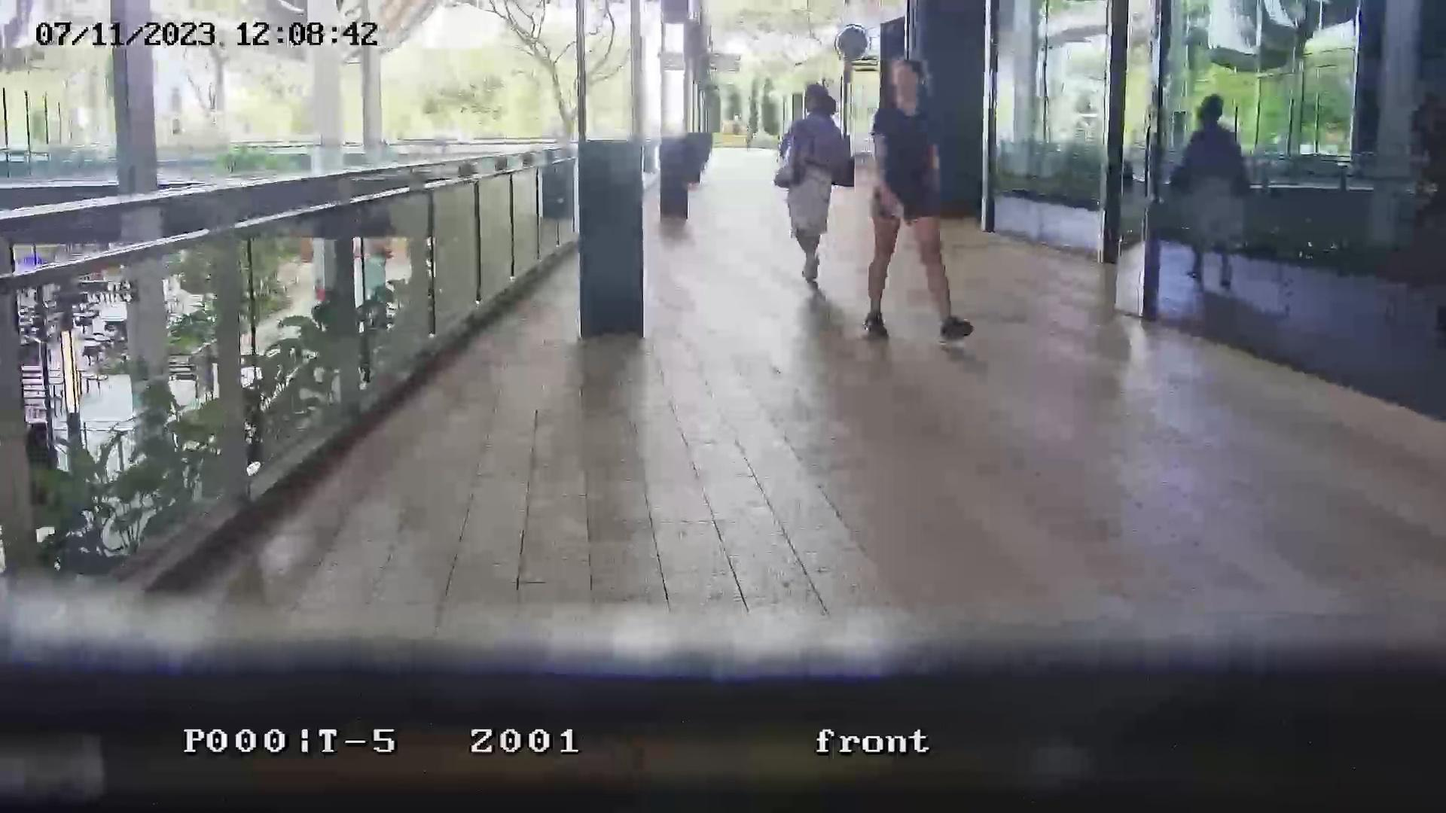person: (861, 54, 975, 342), (774, 81, 855, 287), (1172, 93, 1249, 278)
